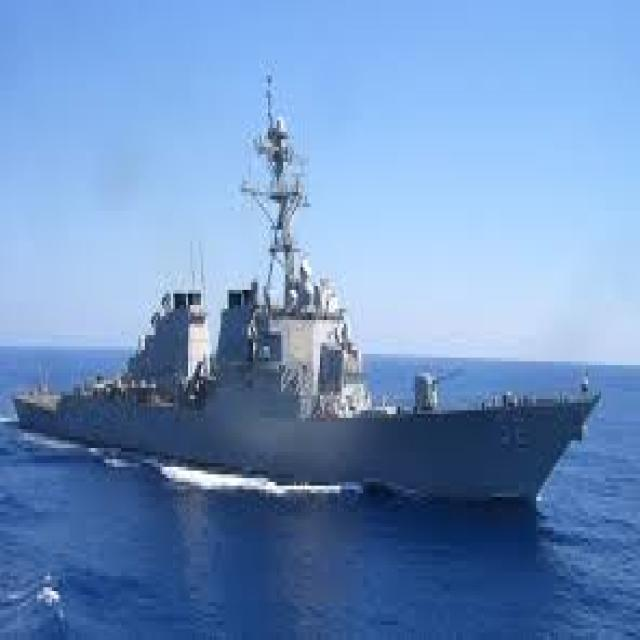navalvessels: (15, 69, 605, 522)
